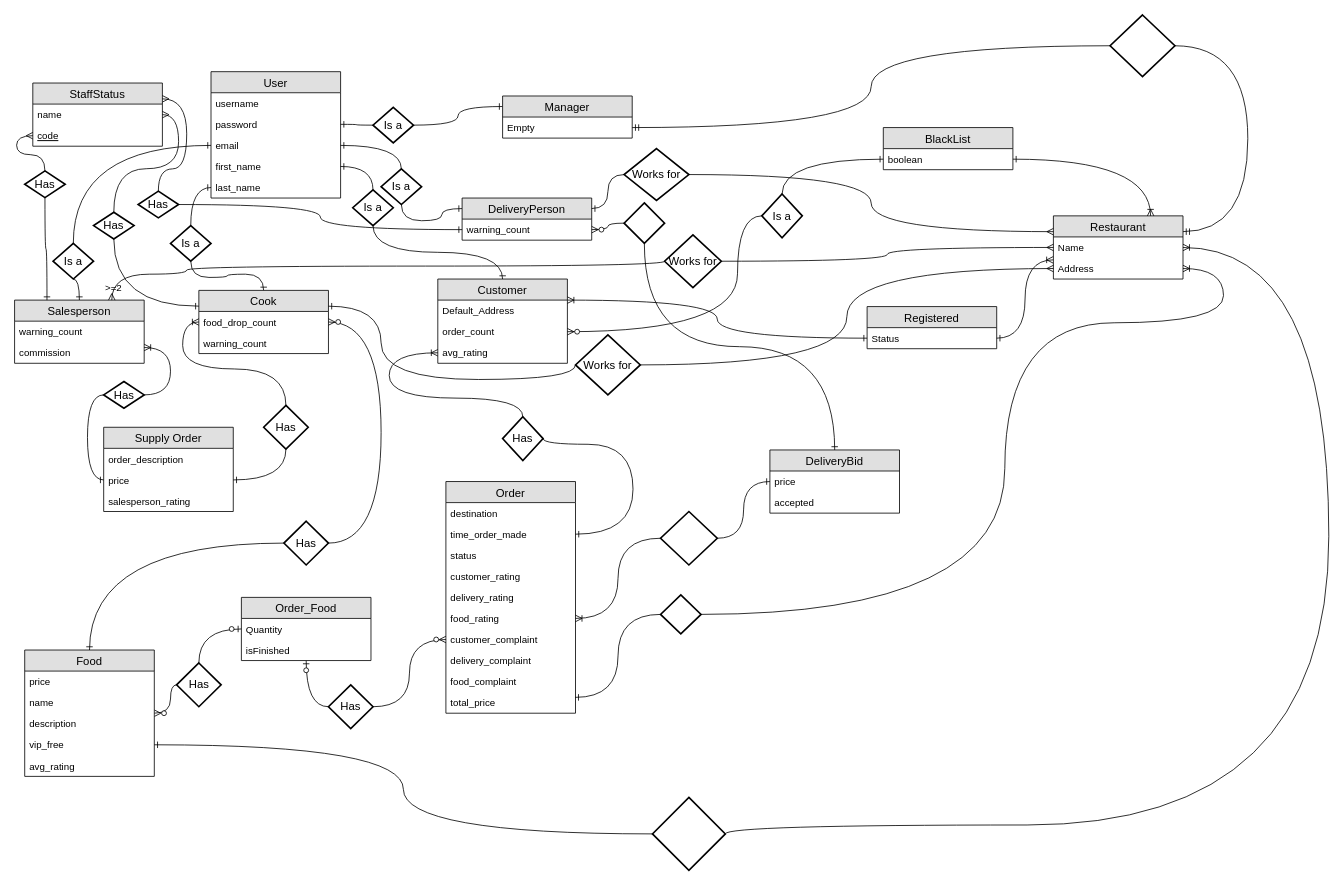
Some shapes in this 1343 by 885 pixel diagram are drawn without their labels. The centre of each missing label's shape, as x and y in pixels:
"Bid for order" belongs at point (688, 537).
"Bids" belongs at point (644, 223).
"For" belongs at point (680, 614).
"Manages" belongs at point (1142, 45).
"Served by" belongs at point (688, 833).
